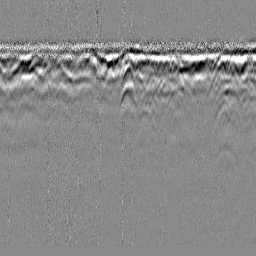cavity: (121, 60, 134, 81)
